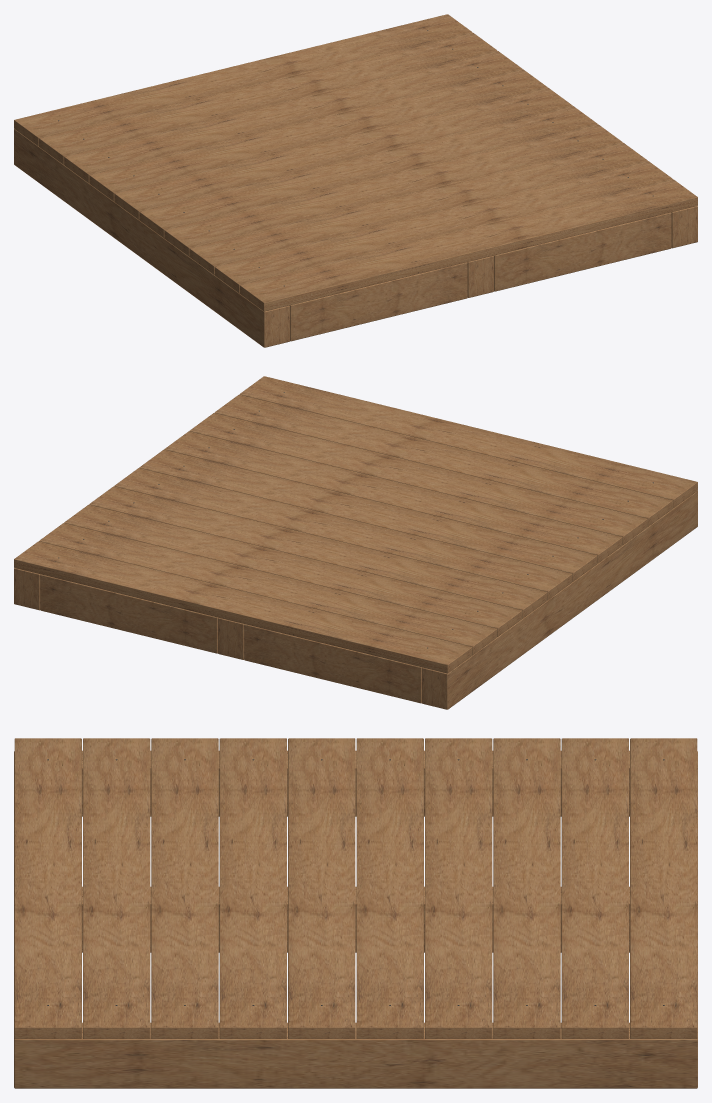
Rendered from SM_FacilityRooms_WoodFloor200.fbx.
The picture shows the model from 3 angles, top to bottom: view 1: azimuth 30°, elevation 25°; view 2: azimuth 150°, elevation 25°; view 3: azimuth 270°, elevation 25°; orthographic projection. The views are drawn at different scales.
Parts seen in each view (by area): view 1: SM_FacilityRooms_WoodFloor200; view 2: SM_FacilityRooms_WoodFloor200; view 3: SM_FacilityRooms_WoodFloor200.
Part boxes in pixels (left/top/right/bottom): SM_FacilityRooms_WoodFloor200: left=14, top=14, right=697, bottom=347; SM_FacilityRooms_WoodFloor200: left=14, top=376, right=697, bottom=709; SM_FacilityRooms_WoodFloor200: left=14, top=738, right=697, bottom=1088.
Size of what is drawn, in the model's own units: 200 by 200 by 20.
